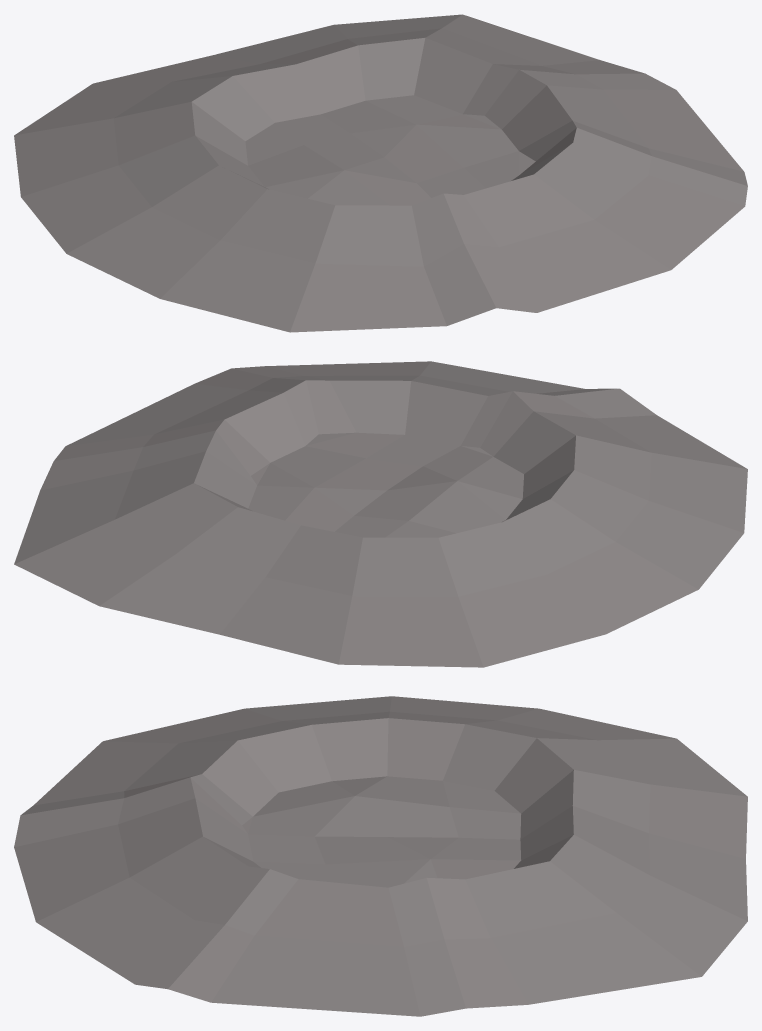
The model's file is crater-big.glb.
3 views of the same model, one above another, from view 1: azimuth 30°, elevation 25°; view 2: azimuth 150°, elevation 25°; view 3: azimuth 270°, elevation 25° (orthographic). The views are drawn at different scales.
Parts seen in each view (by area): view 1: crater-big; view 2: crater-big; view 3: crater-big.
Part boxes in pixels (x1,y1,x2,y2): crater-big: (14,14,747,332); crater-big: (14,361,747,667); crater-big: (14,696,747,1016).
Bounding box in the file's own units: 7.61 × 0.713 × 7.31.
Materials: 1 (1 with a texture image).
